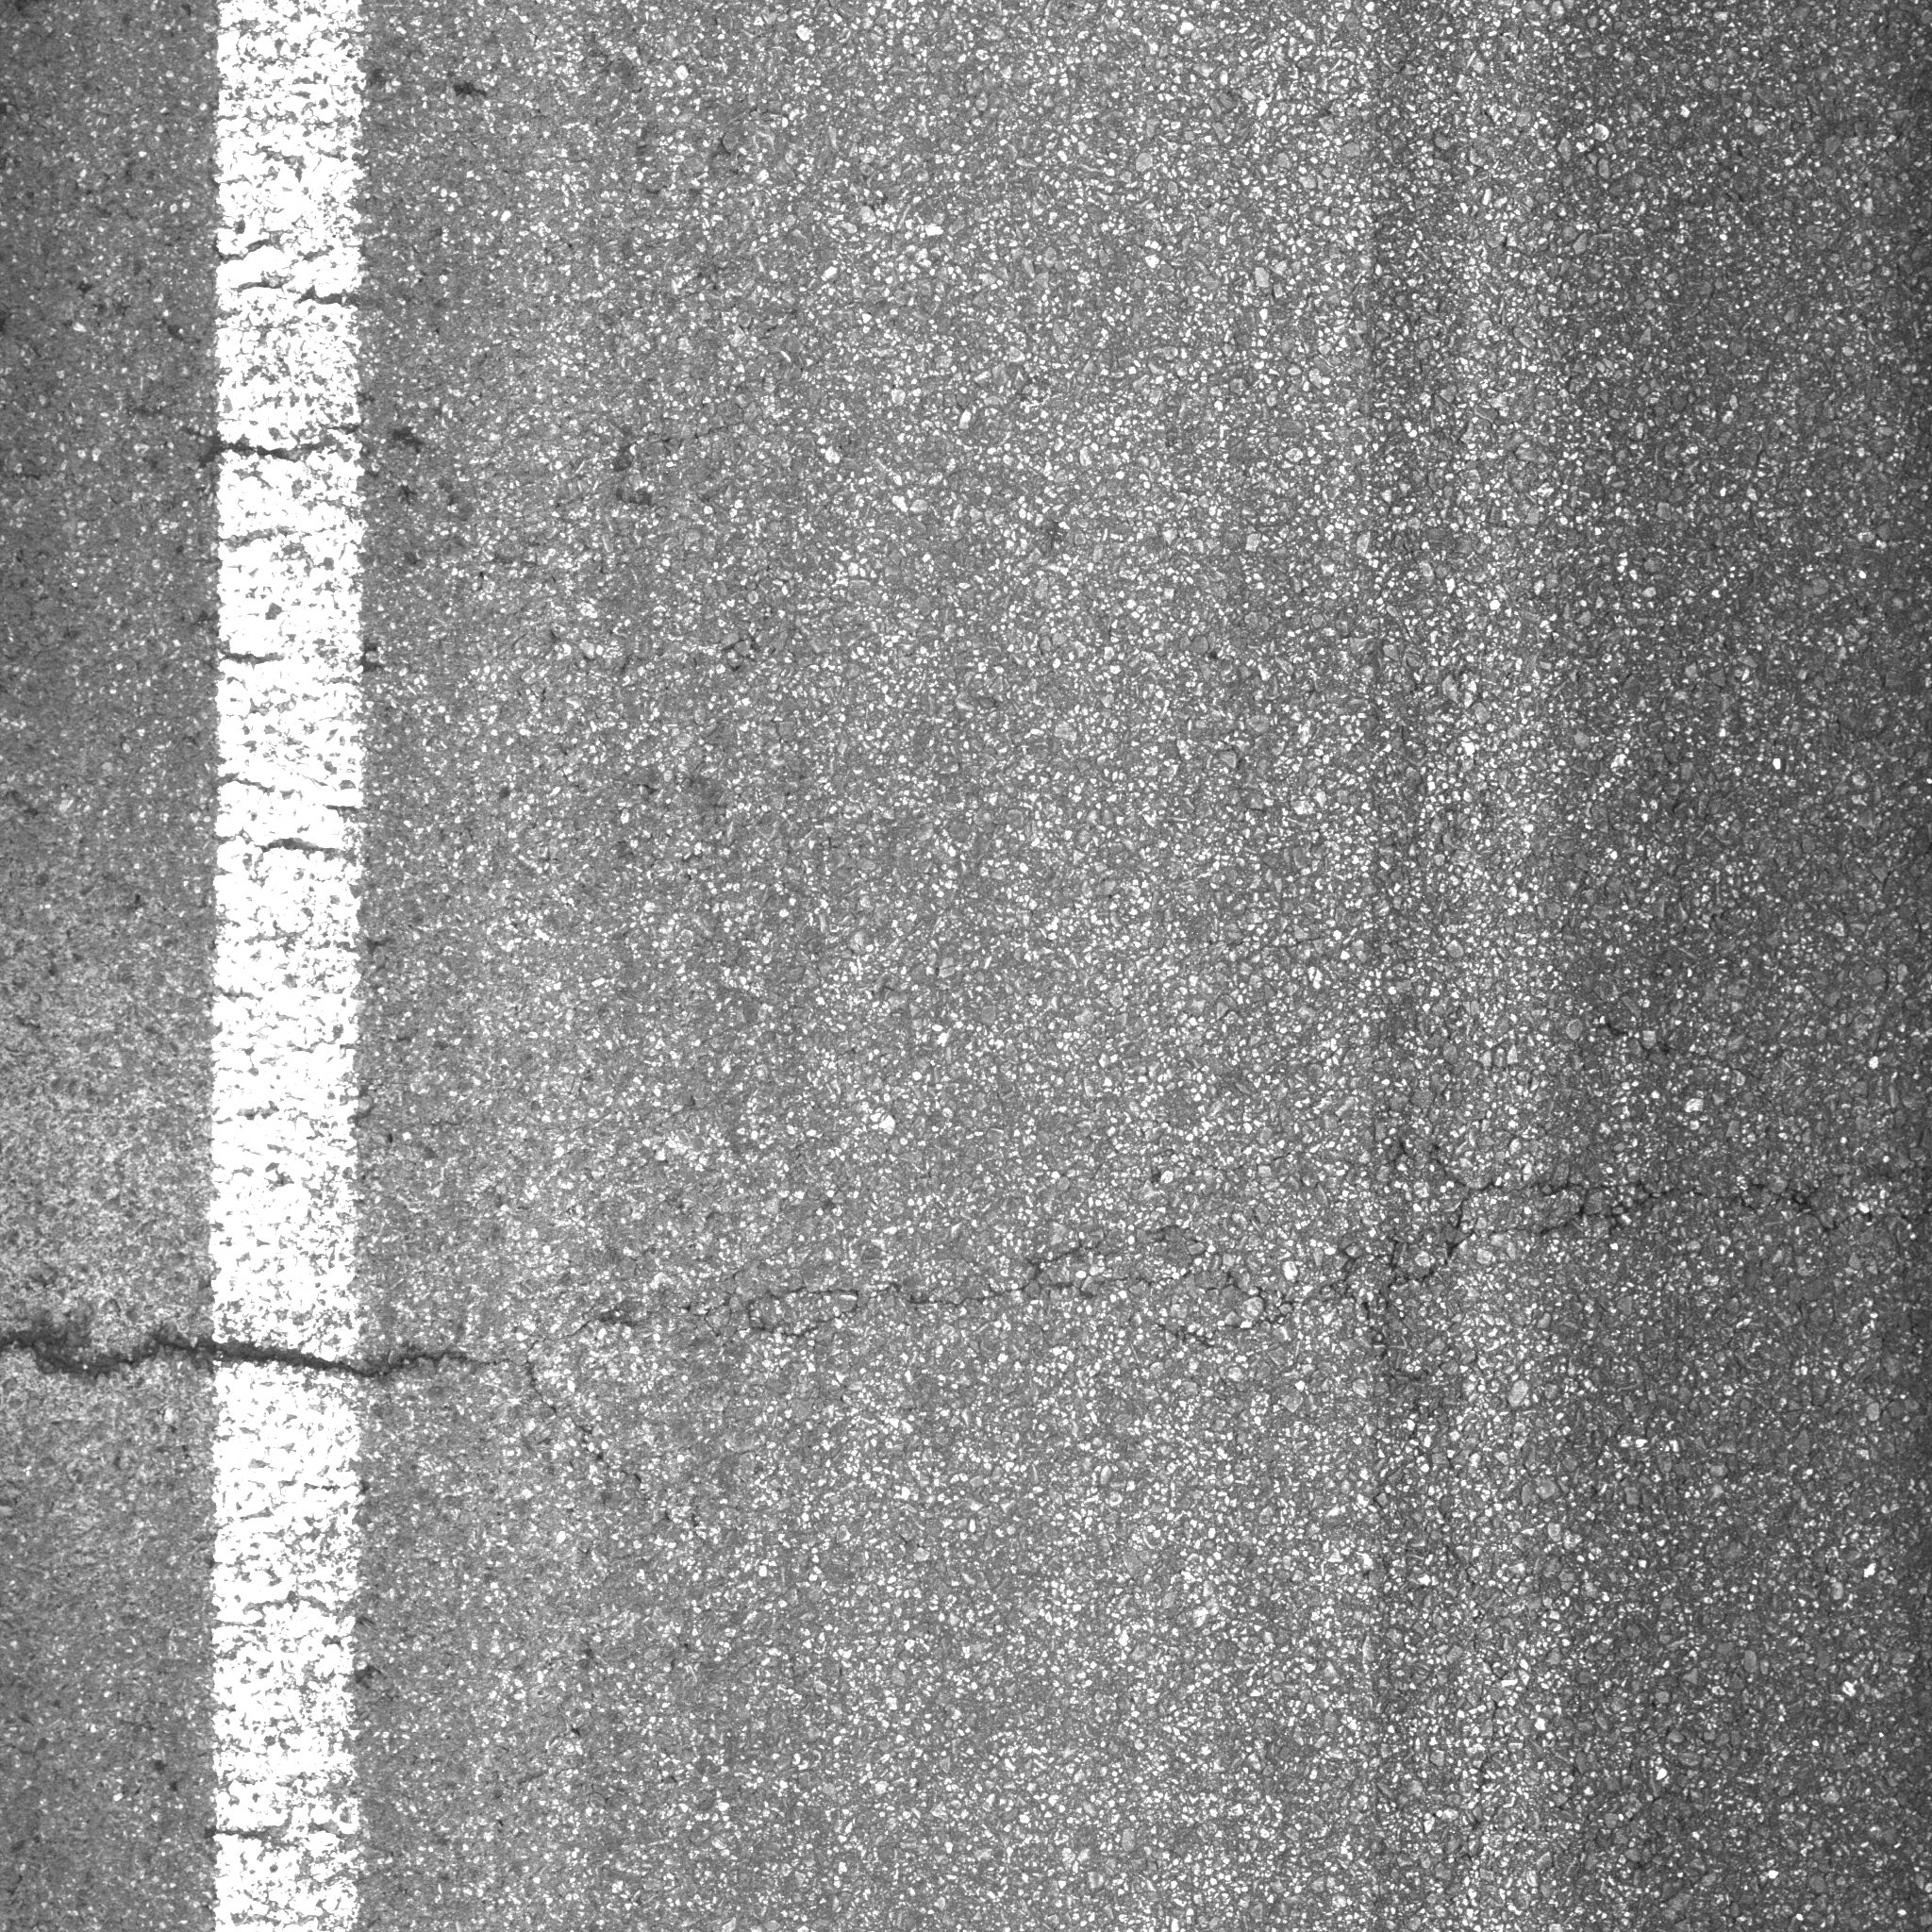transeverse: (18, 1129, 1916, 1428)
